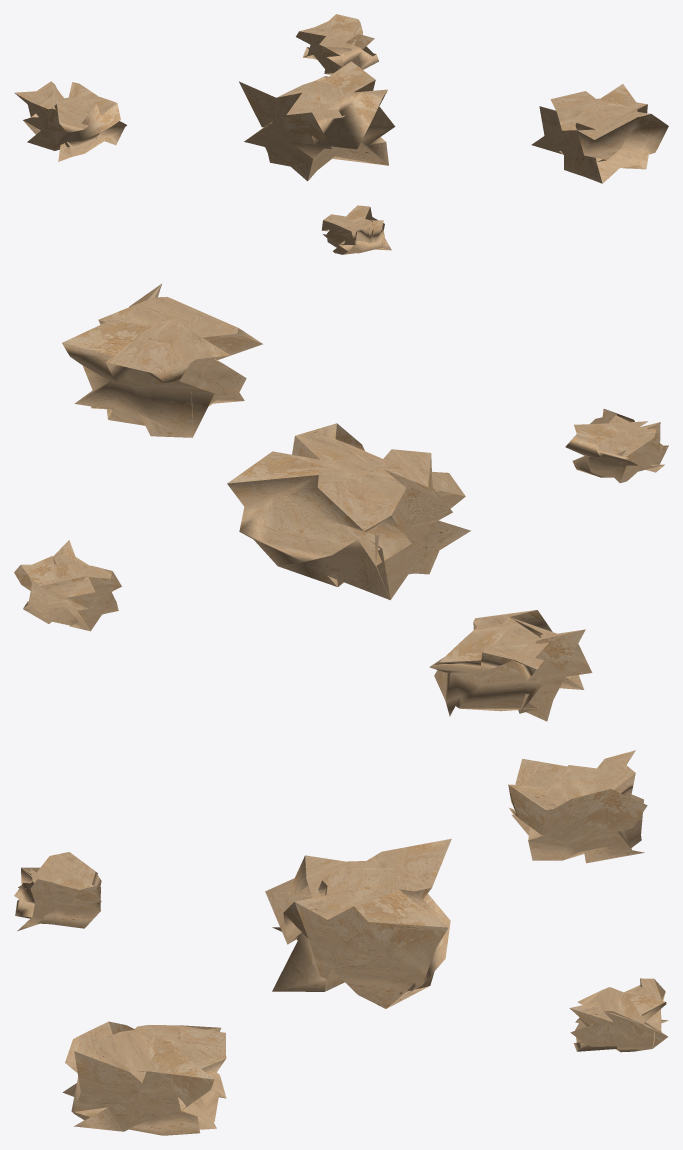
File: debris.gltf
3 renders of one model, top to bottom at view 1: azimuth 30°, elevation 25°; view 2: azimuth 150°, elevation 25°; view 3: azimuth 270°, elevation 25°, orthographic. The views are drawn at different scales.
Visible parts, largest first — view 1: debris_e, debris_c, debris_a, debris_b, debris_d; view 2: debris_e, debris_c, debris_a, debris_b, debris_d; view 3: debris_e, debris_c, debris_a, debris_b, debris_d.
Part boxes in pixels (x1=…): debris_e: x1=239, y1=61, x2=395, y2=181; debris_c: x1=531, y1=84, x2=668, y2=183; debris_a: x1=14, y1=81, x2=126, y2=161; debris_b: x1=296, y1=14, x2=378, y2=74; debris_d: x1=321, y1=205, x2=391, y2=254; debris_e: x1=227, y1=423, x2=470, y2=600; debris_c: x1=62, y1=283, x2=262, y2=437; debris_a: x1=429, y1=610, x2=592, y2=721; debris_b: x1=14, y1=540, x2=121, y2=631; debris_d: x1=565, y1=409, x2=668, y2=483; debris_e: x1=265, y1=838, x2=451, y2=1008; debris_c: x1=62, y1=1021, x2=226, y2=1135; debris_a: x1=508, y1=750, x2=647, y2=863; debris_b: x1=569, y1=978, x2=668, y2=1052; debris_d: x1=14, y1=852, x2=101, y2=931.
Bounding box in the file's own units: 1.82 × 0.2346 × 1.52.
1 material, 1 textured.
